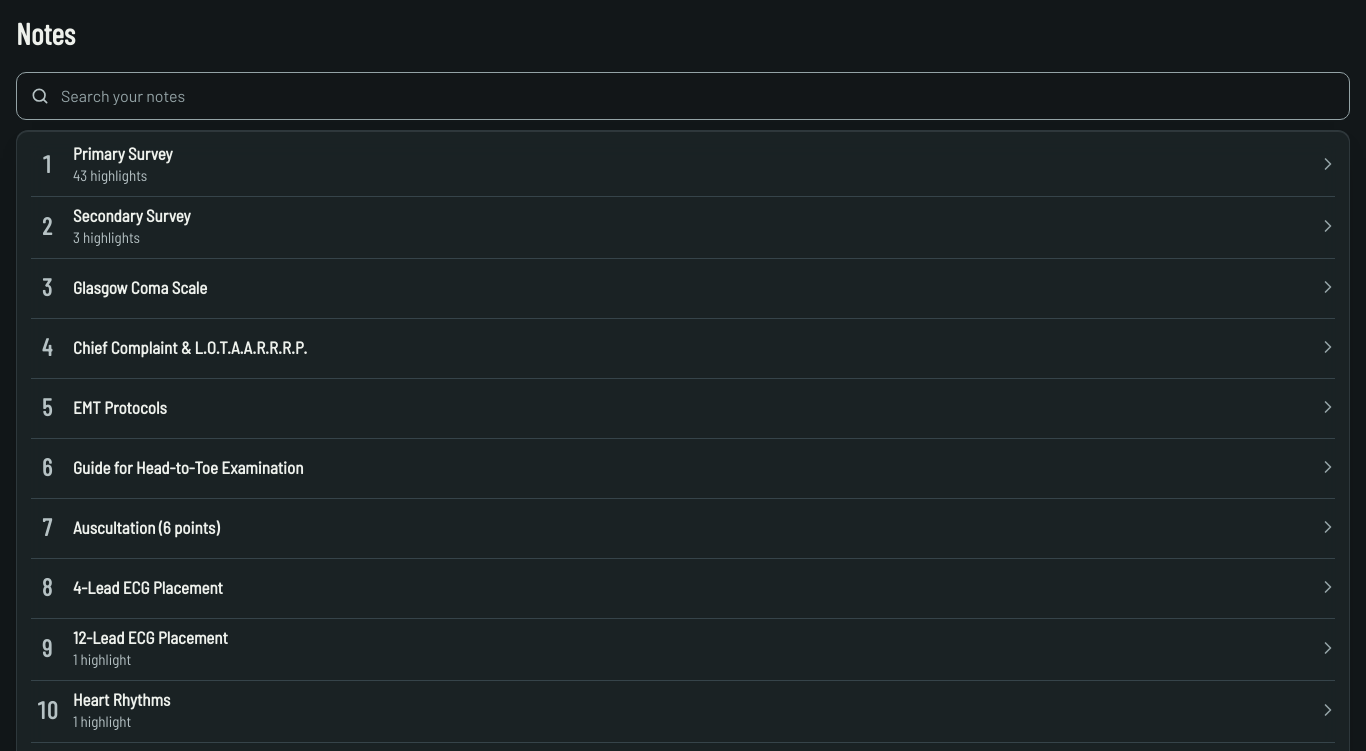
Scenario: Notes tab: section list › brings the last-read row into view on mount with block 'nearest', once
Type "ensapa" into the search field labelled "Search your notes" at (683, 96), box 16,72 -> 1350,120
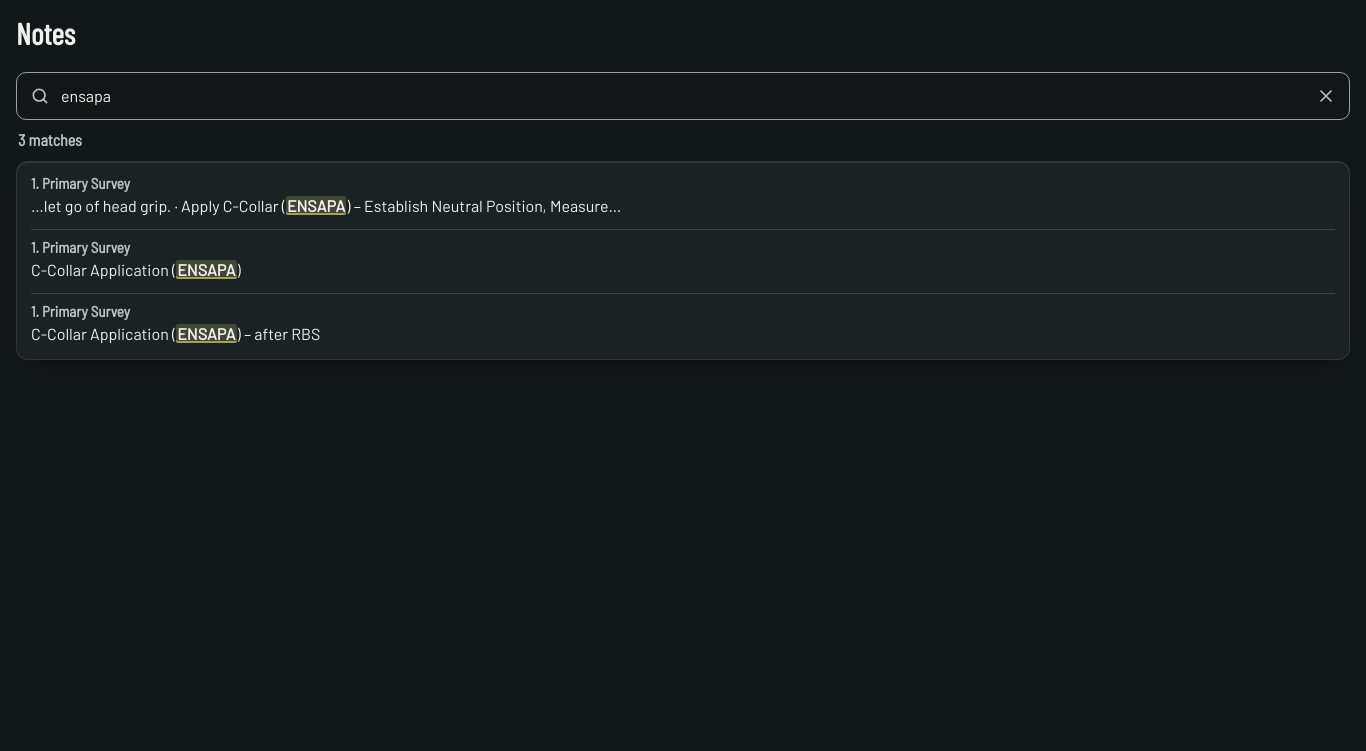
Clear the search field named "Search your notes" at (683, 96), box 16,72 -> 1350,120
(page scrolled)
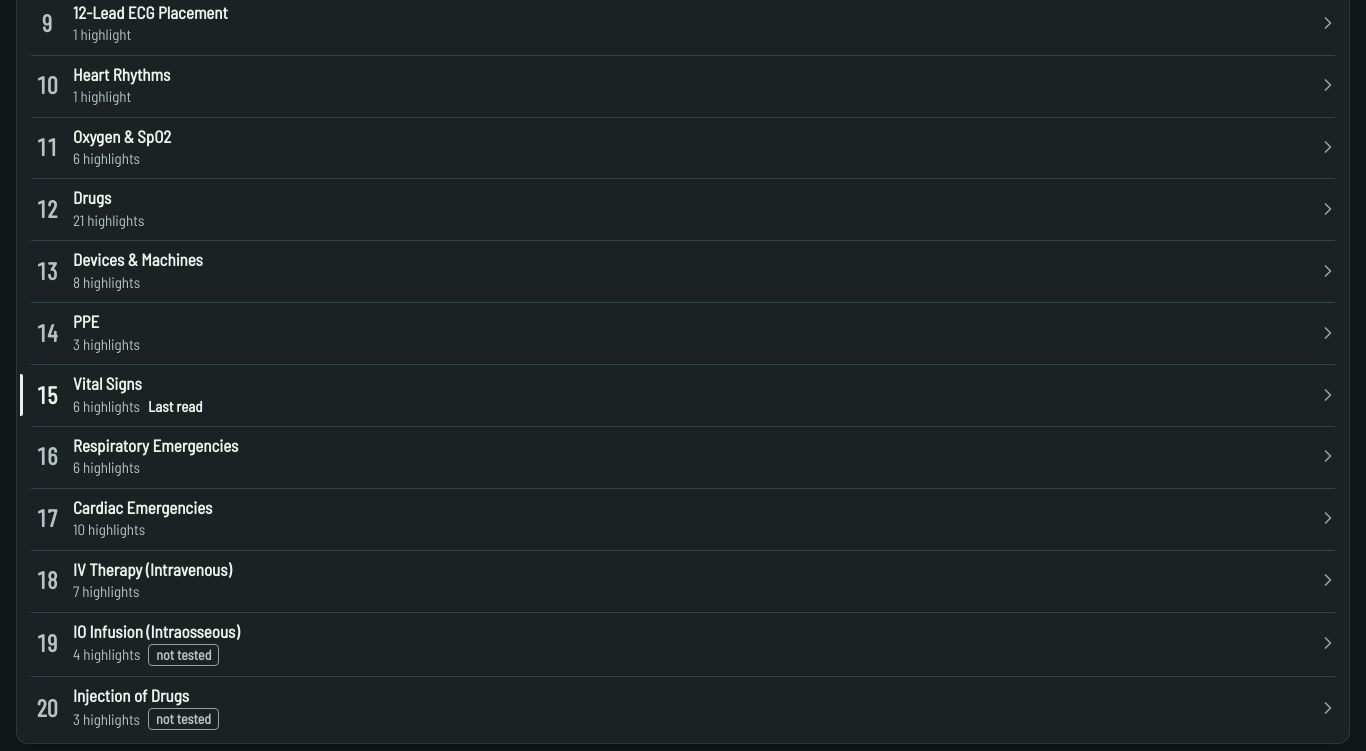
Expected: the link "15 Vital Signs 6 highlights Last read" is shown, 20,364 -> 1346,426
